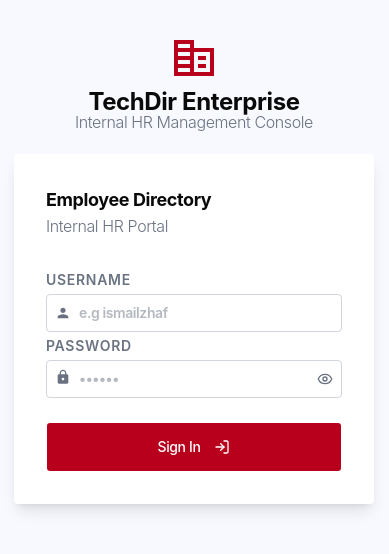
LoginPage › Menampilkan error ketika username dan password kosong saat form disubmit
What coordinates should you click on to do the following:
click the button "Sign In"
I would click on:
 (194, 447)
Its box is x1=46 y1=422 x2=342 y2=472.
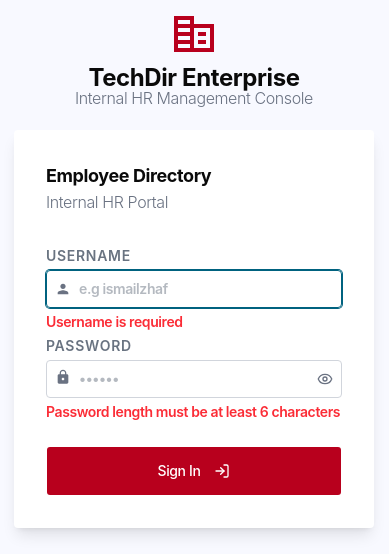
Check: the text "Username is required" is shown, box x1=46 y1=313 x2=183 y2=330
Check: the text "Password length must be at least 6 characters" is shown, box x1=46 y1=402 x2=342 y2=422
